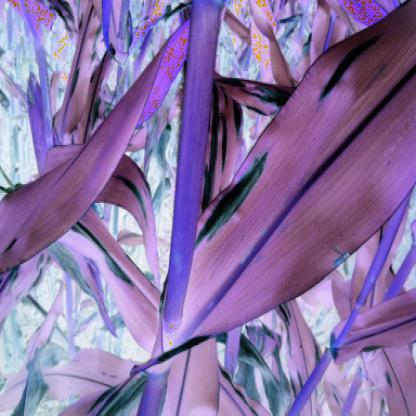Corn leaf blight: (168, 4, 413, 362), (70, 213, 166, 336), (194, 76, 254, 78)
